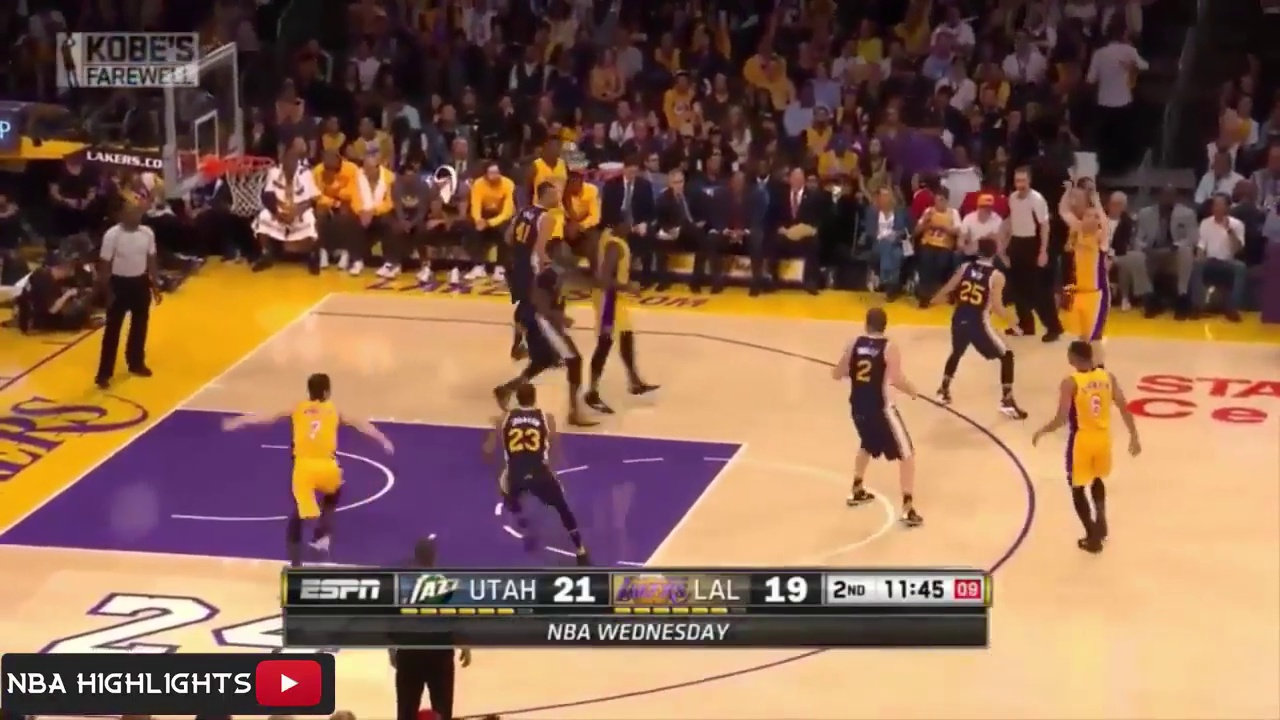jazz: (480, 380, 597, 564), (833, 306, 929, 520), (933, 234, 1029, 417), (511, 239, 595, 424), (506, 188, 557, 315)
lakers: (223, 368, 392, 565), (1027, 343, 1138, 556), (1057, 170, 1118, 376), (594, 218, 660, 403), (525, 137, 573, 280)
